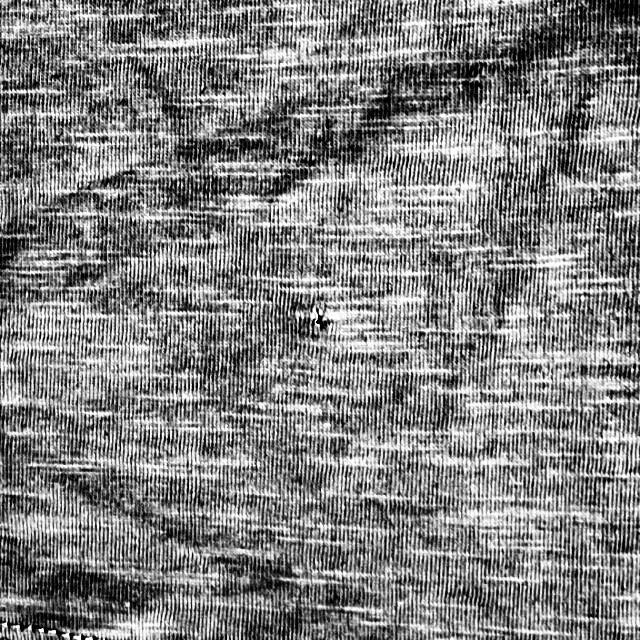Hole: (302, 302, 350, 336)
